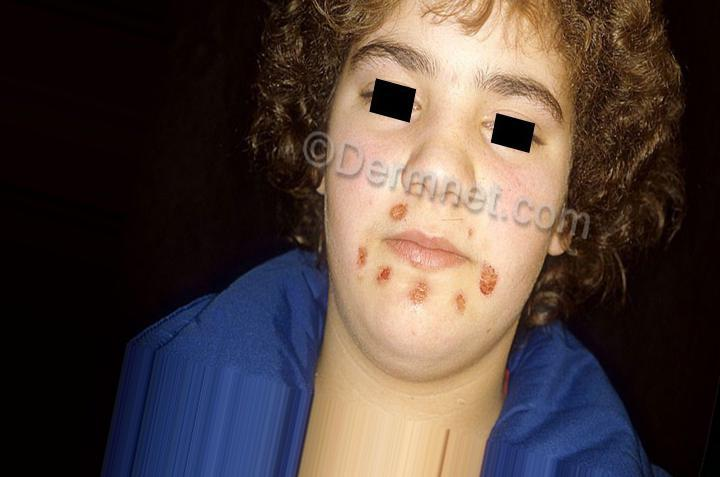Acne: (373, 196, 432, 248), (338, 238, 380, 279), (442, 278, 480, 323), (376, 246, 409, 296), (463, 258, 501, 296), (409, 270, 441, 315)
